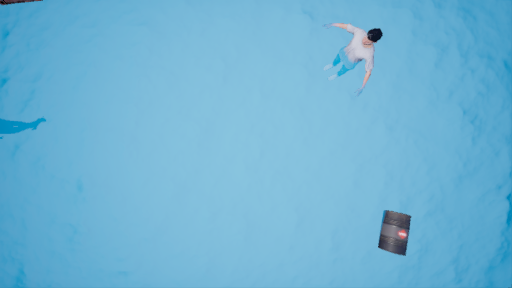person: (309, 15, 383, 104)
